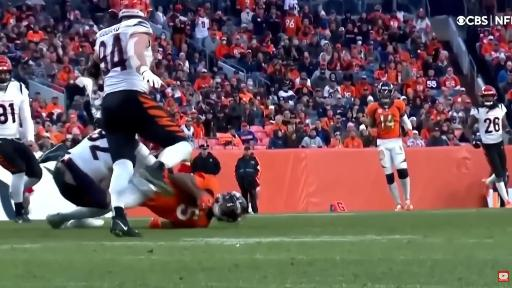Helmet: (213, 192, 247, 222), (110, 0, 152, 18), (377, 82, 394, 106), (0, 56, 12, 84), (480, 86, 496, 106)
Jersey: (96, 19, 152, 94), (142, 181, 211, 227), (367, 100, 406, 174), (64, 130, 113, 182), (0, 81, 34, 140), (366, 100, 405, 139), (471, 104, 506, 143)
Player: (87, 0, 192, 233), (0, 56, 42, 222), (124, 170, 246, 227), (133, 173, 247, 228), (366, 82, 412, 210), (465, 86, 511, 207), (53, 130, 112, 219)
